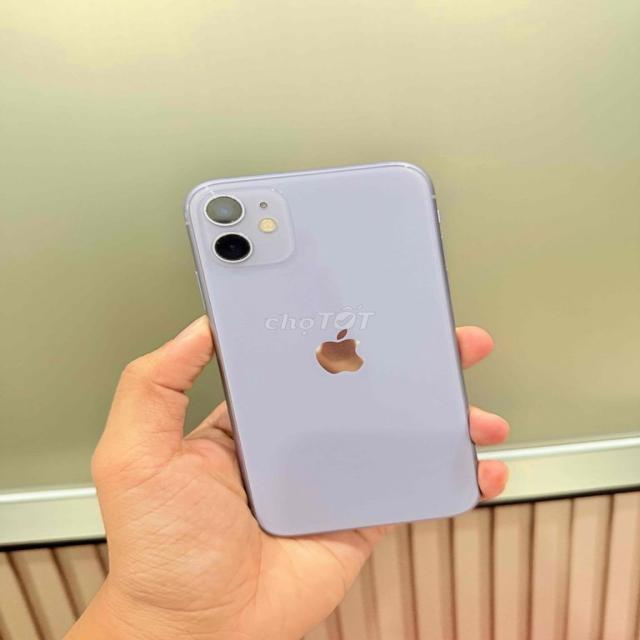gen_11: (185, 162, 478, 536)
